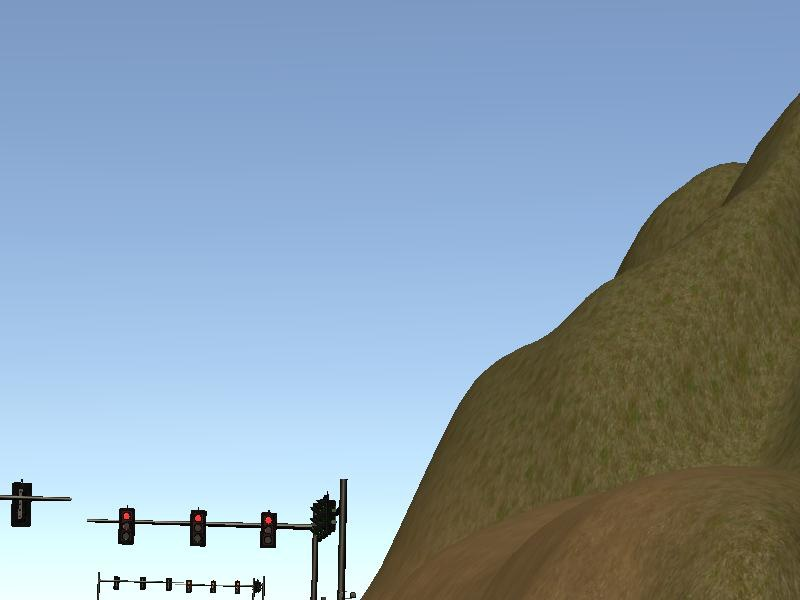red_light: (118, 506, 137, 545), (191, 510, 206, 546), (262, 513, 276, 545)
